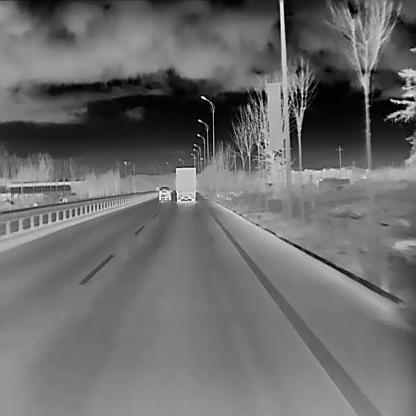car: (174, 166, 196, 202), (158, 185, 171, 200)
